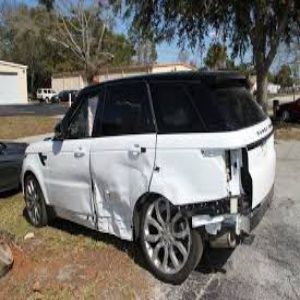door: (58, 165, 143, 238)
